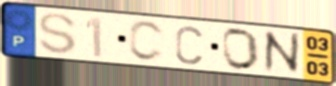1: (85, 15, 103, 58)
C: (126, 19, 167, 64), (174, 23, 205, 66)
N: (261, 29, 303, 75)
O: (220, 26, 261, 72)
S: (36, 11, 79, 56)
